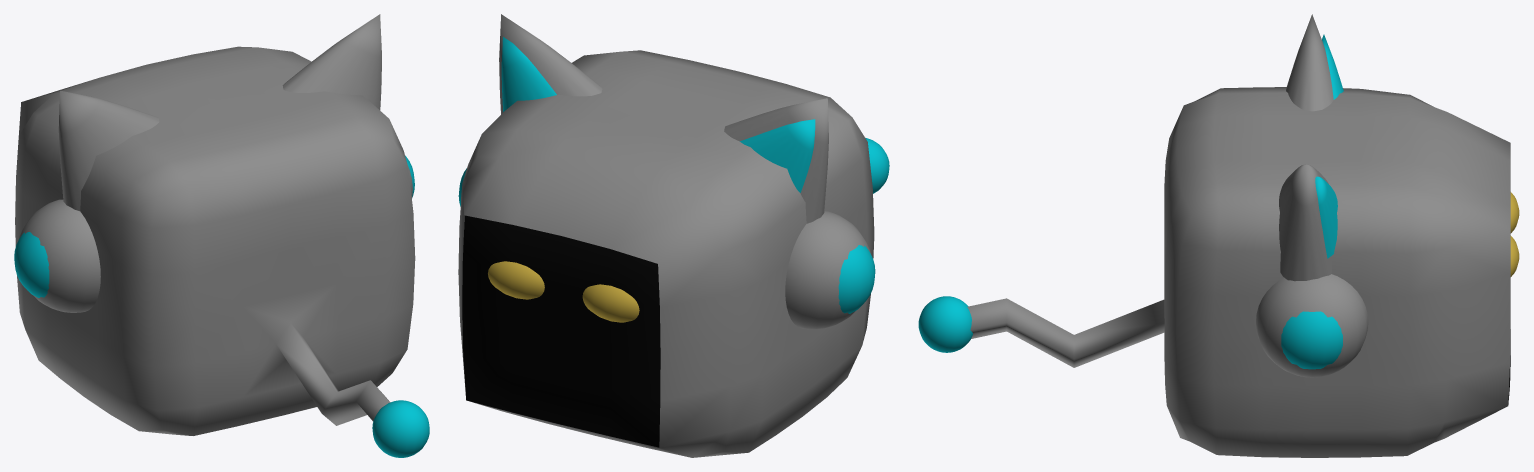
File: Avatar_Adira.dae
3 views of the same model, side by side, from view 1: azimuth 30°, elevation 25°; view 2: azimuth 150°, elevation 25°; view 3: azimuth 270°, elevation 25° (orthographic). The views are drawn at different scales.
Parts seen in each view (by area): view 1: pasted__pSphere8; view 2: pasted__pSphere8; view 3: pasted__pSphere8.
Part boxes in pixels (x1,y1,x2,y2): pasted__pSphere8: (14, 14, 429, 457); pasted__pSphere8: (458, 14, 889, 457); pasted__pSphere8: (918, 14, 1519, 457).
Bounding box in the file's own units: 1.5 × 1.19 × 2.04.
